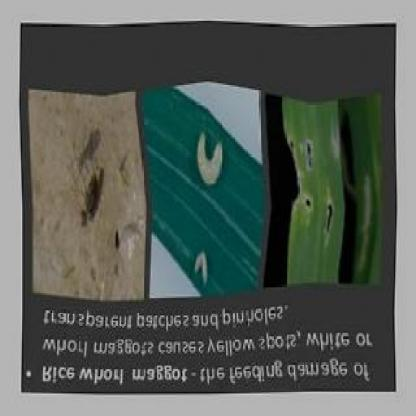whorl-maggot: (193, 125, 226, 193), (193, 247, 209, 290)
